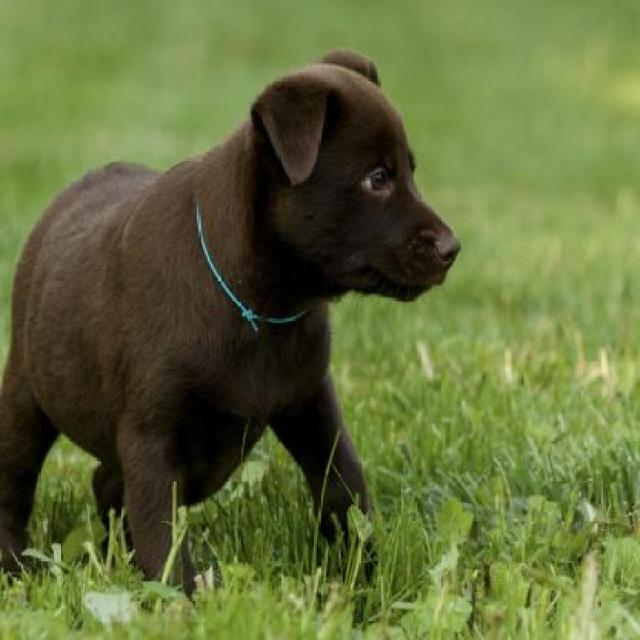animals: (0, 28, 468, 568)
